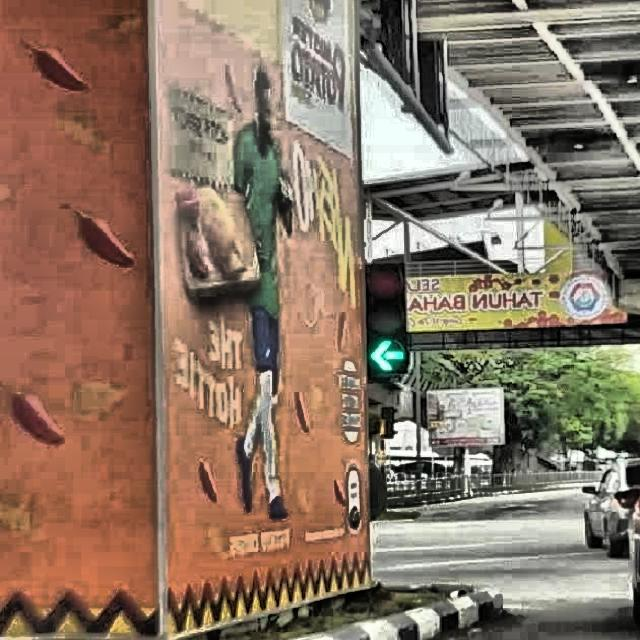green: (364, 261, 406, 376)
